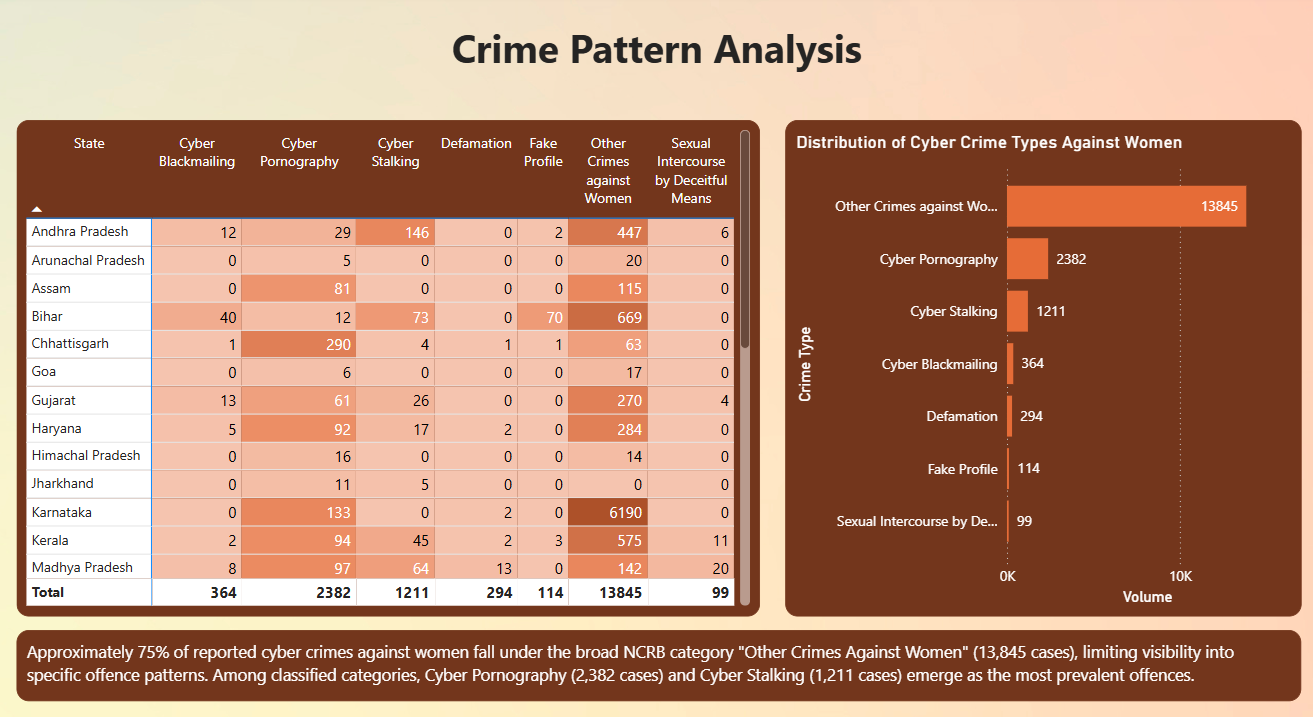

The page's visual inventory and layout, read from the dashboard file:
{"tool":"powerbi","page":{"name":"Page 3","canvas":[1280,720],"ordinal":2},"visuals":[{"type":"textbox","box":[436.7,20.5,406.6,65.1],"z":0},{"type":"pivotTable","fields":{"Rows":["Raw Data.State"],"Columns":["Raw Data.Attribute"],"Values":["Sum(Raw Data.Total Crimes)"]},"box":[21.7,120.6,717.8,479],"z":1000},{"type":"barChart","title":"Distribution of Cyber Crime Types Against Women","fields":{"Category":["Raw Data.Attribute"],"Y":["Sum(Raw Data.Total Crimes)"]},"box":[763.7,120.6,498.3,479],"z":2000},{"type":"textbox","box":[21.7,612.9,1240.2,68.8],"z":3000}]}

Visuals, with their boxes on the page's 1280x720 design canvas (x1, y1, x2, y2). These are canvas units, not pixel positions in the 1313x717 screenshot, which may show the page scaled, cropped or inside an application window:
textbox: detection(437, 20, 843, 86)
pivotTable - Raw Data.State x Raw Data.Attribute: detection(22, 121, 740, 600)
"Distribution of Cyber Crime Types Against Women" barChart: detection(764, 121, 1262, 600)
textbox: detection(22, 613, 1262, 682)
